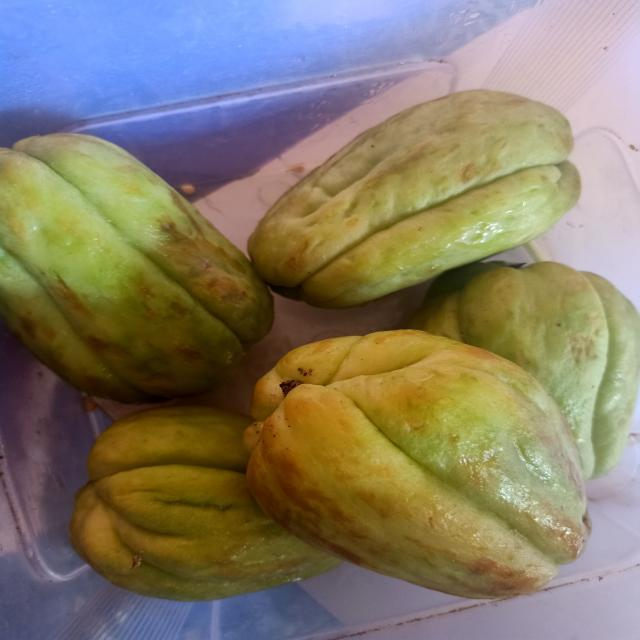Chayote: (246, 330, 591, 599), (0, 133, 273, 403), (248, 89, 581, 309), (68, 406, 340, 602), (411, 261, 640, 479)
